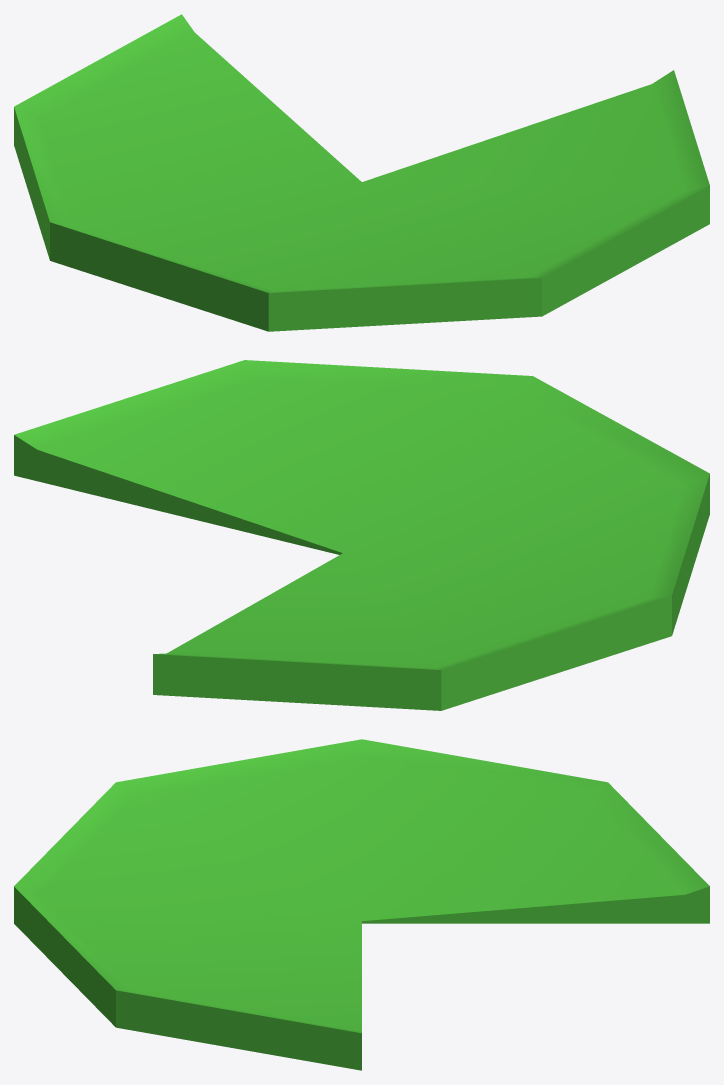
3 views of the same model, one above another, from view 1: azimuth 30°, elevation 25°; view 2: azimuth 150°, elevation 25°; view 3: azimuth 270°, elevation 25° (orthographic). The views are drawn at different scales.
Parts seen in each view (by area): view 1: LillyPad; view 2: LillyPad; view 3: LillyPad.
Boxes of the visible parts, box(x1,y1,x2,y2) form: LillyPad: box(14, 14, 709, 331); LillyPad: box(14, 360, 709, 710); LillyPad: box(14, 739, 709, 1070).
Size of the model in its own units: 0.0565 by 0.00334 by 0.0565.
Materials: 1 (1 with a texture image).
